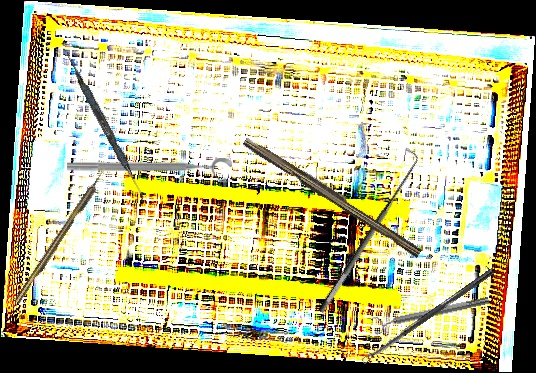Fixation Ring: (371, 291, 491, 336), (67, 158, 232, 184)
Hook Surgical: (305, 146, 427, 315), (12, 167, 110, 305)
Scalpel Handle: (240, 134, 426, 258)
Spatula Surgical: (60, 51, 152, 205)
Surgical Spoon: (360, 266, 496, 365)
